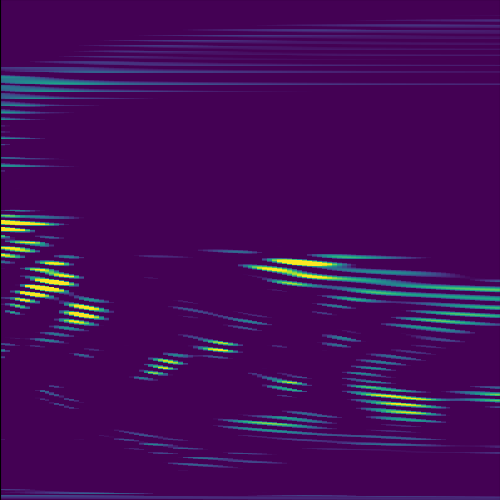semblance: (6, 254, 85, 315), (35, 293, 113, 346), (1, 208, 73, 264)
